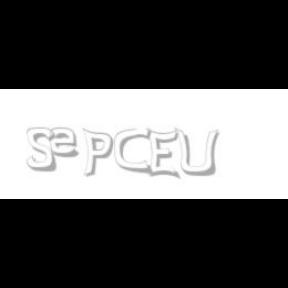C: (115, 128, 152, 174)
E: (146, 128, 180, 180)
P: (81, 128, 113, 178)
S: (26, 128, 58, 172)
U: (174, 128, 218, 178)
e: (50, 128, 82, 158)
